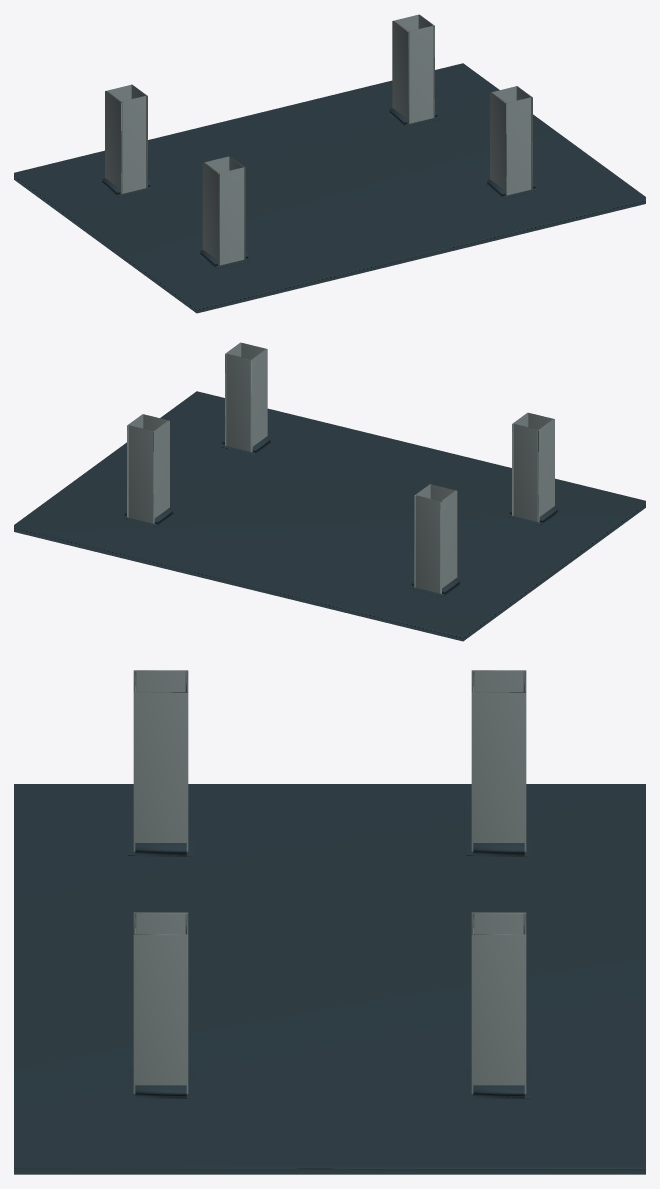
Rendered from buffer_base.dae.
3 renders of one model, top to bottom at view 1: azimuth 30°, elevation 25°; view 2: azimuth 150°, elevation 25°; view 3: azimuth 270°, elevation 25°, orthographic. The views are drawn at different scales.
Visible parts, largest first — view 1: spreader, guide_0_y-1, guide_2_y-1, guide_3_y-1, guide_1_y-1, guide_1_x-1, guide_3_x-1, guide_0_x-1, guide_2_x-1; view 2: spreader, guide_1_y1, guide_3_y1, guide_2_y1, guide_0_y1, guide_0_x-1, guide_2_x-1, guide_1_x-1, guide_3_x-1; view 3: spreader, guide_2_x1, guide_3_x1, guide_0_x1, guide_1_x1, guide_2_x-1, guide_3_x-1, guide_0_x-1, guide_1_x-1, drive_0, drive_1, drive_2 (+1 smaller).
Part boxes in pixels (left/top/right/bottom): spreader: left=14, top=63, right=645, bottom=313; guide_0_y-1: left=219, top=167, right=244, bottom=265; guide_2_y-1: left=506, top=97, right=531, bottom=195; guide_3_y-1: left=409, top=25, right=433, bottom=123; guide_1_y-1: left=122, top=96, right=146, bottom=193; guide_1_x-1: left=105, top=91, right=122, bottom=194; guide_3_x-1: left=392, top=21, right=409, bottom=124; guide_0_x-1: left=202, top=162, right=219, bottom=265; guide_2_x-1: left=490, top=92, right=506, bottom=195; spreader: left=14, top=391, right=645, bottom=641; guide_1_y1: left=415, top=495, right=440, bottom=593; guide_3_y1: left=128, top=425, right=153, bottom=523; guide_2_y1: left=226, top=353, right=250, bottom=451; guide_0_y1: left=513, top=424, right=537, bottom=521; guide_0_x-1: left=537, top=419, right=554, bottom=522; guide_2_x-1: left=250, top=349, right=267, bottom=452; guide_1_x-1: left=440, top=490, right=457, bottom=593; guide_3_x-1: left=153, top=420, right=169, bottom=523; spreader: left=14, top=784, right=645, bottom=1174; guide_2_x1: left=133, top=934, right=188, bottom=1093; guide_3_x1: left=471, top=934, right=526, bottom=1093; guide_0_x1: left=133, top=692, right=188, bottom=851; guide_1_x1: left=471, top=692, right=526, bottom=851; guide_2_x-1: left=133, top=912, right=188, bottom=934; guide_3_x-1: left=471, top=912, right=526, bottom=934; guide_0_x-1: left=133, top=670, right=188, bottom=691; guide_1_x-1: left=471, top=670, right=526, bottom=691; drive_0: left=135, top=843, right=186, bottom=856; drive_1: left=473, top=843, right=524, bottom=856; drive_2: left=135, top=1085, right=186, bottom=1098.
Bounding box in the file's own units: 1.22 × 0.86 × 0.26.
